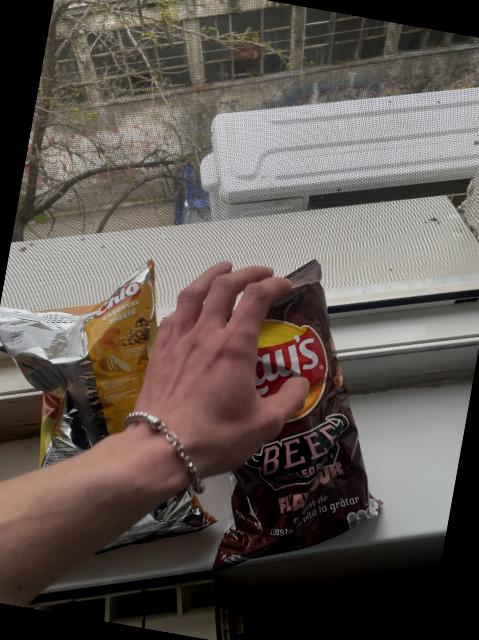Chio Cascaval 125g: (0, 242, 264, 573)
Lays Beef Grilled Ribs 125g: (192, 246, 421, 592)
